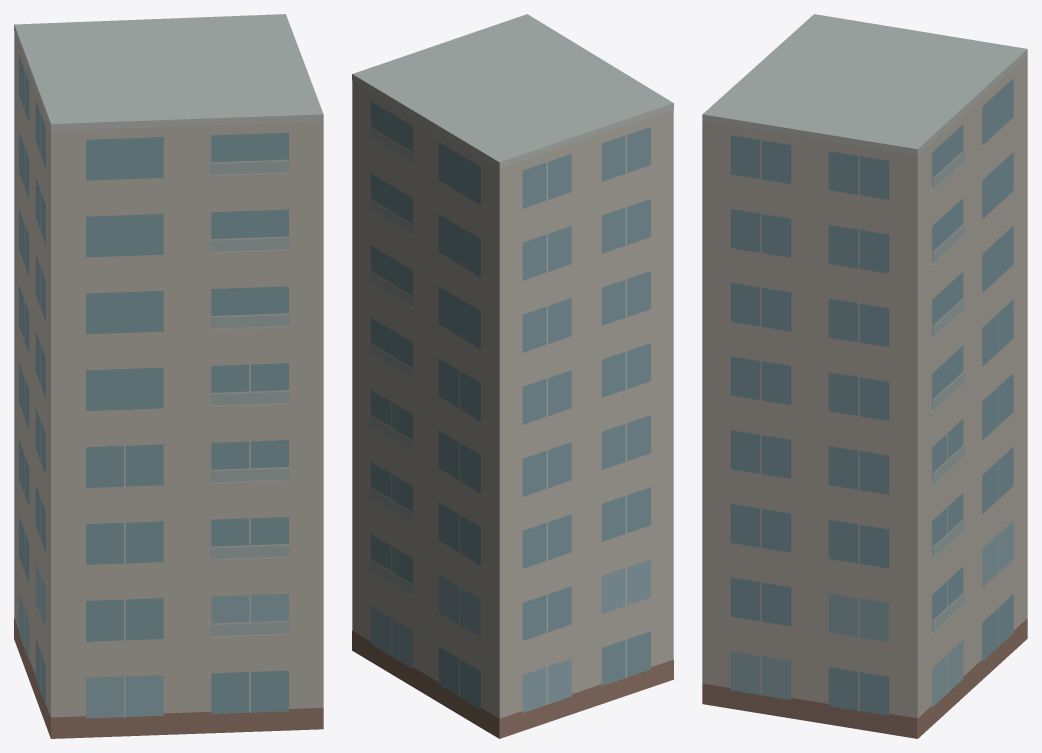
Rendered from survey-upis-32534802.glb.
The picture shows the model from 3 angles, left to right: view 1: azimuth 30°, elevation 25°; view 2: azimuth 150°, elevation 25°; view 3: azimuth 270°, elevation 25°; orthographic projection. The views are drawn at different scales.
Parts seen in each view (by area): view 1: survey-upis-32534802.tmp; view 2: survey-upis-32534802.tmp; view 3: survey-upis-32534802.tmp.
Boxes of the visible parts, x1=… form: survey-upis-32534802.tmp: x1=14, y1=14, x2=323, y2=738; survey-upis-32534802.tmp: x1=352, y1=14, x2=673, y2=738; survey-upis-32534802.tmp: x1=702, y1=14, x2=1027, y2=738.
Size of the model in its own units: 10.61 by 21.55 by 10.78.
